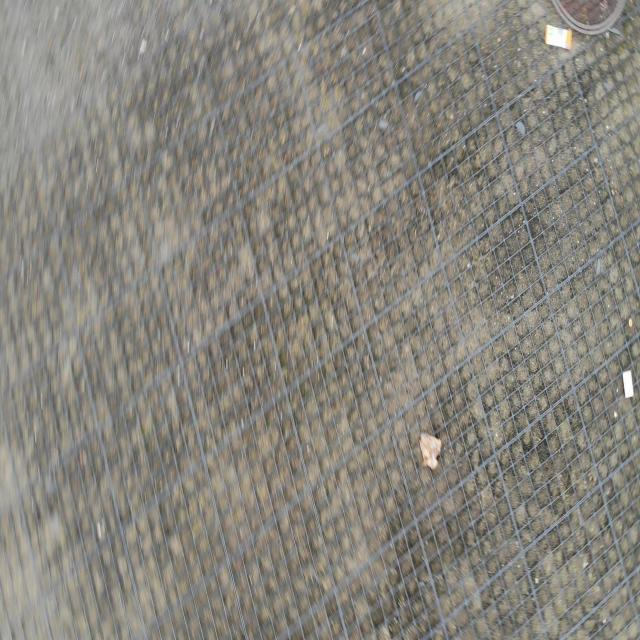rubbish: (420, 429, 441, 468), (544, 23, 573, 50), (621, 368, 633, 397), (628, 315, 633, 328)
